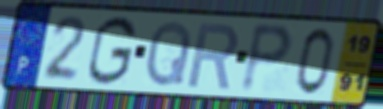0: (294, 26, 337, 96)
2: (42, 14, 87, 82)
G: (85, 14, 139, 87)
P: (237, 20, 296, 96)
Q: (143, 18, 194, 89)
R: (185, 20, 241, 91)
